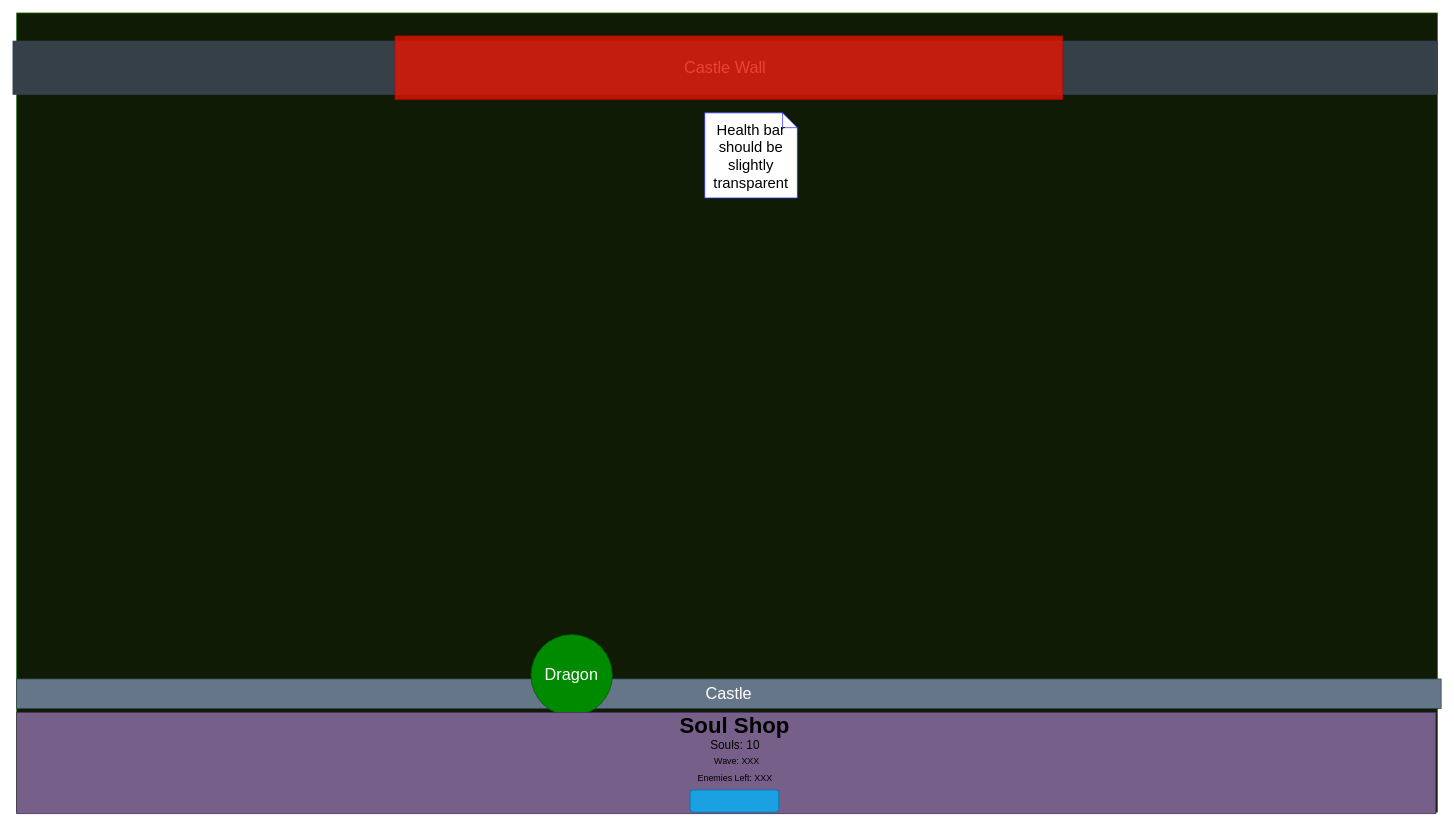
The diagram is 1454 pixels wide and 827 high, and some of its shapes have lost their labels. The shapes that lost their labels are listed below. From the top down, each one's box as (x1, y1, x2, y2) in pixels, then its label:
(394, 35, 1063, 100): Castle Health Bar
(689, 789, 779, 812): Show Placeable Info
